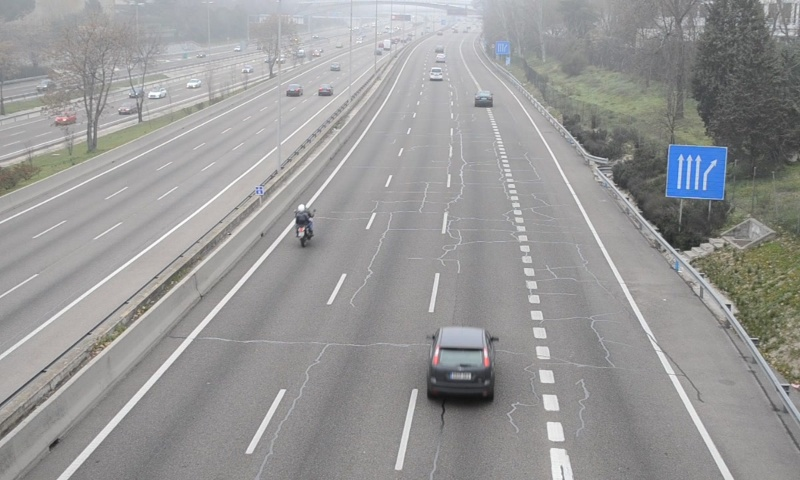car: (426, 327, 496, 400), (474, 90, 492, 107), (429, 67, 444, 82)
motorcycle: (294, 204, 314, 247)
